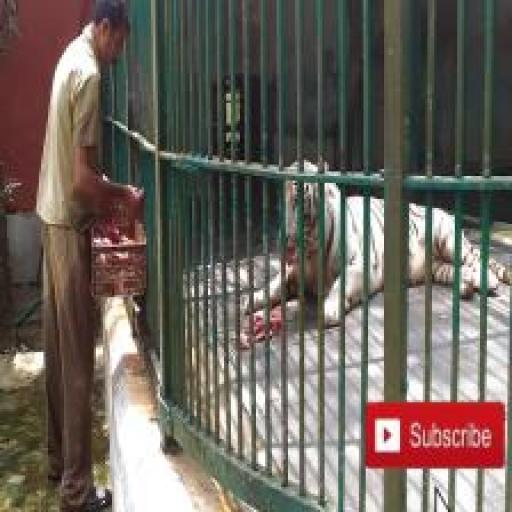Tiger: (240, 155, 512, 335)
